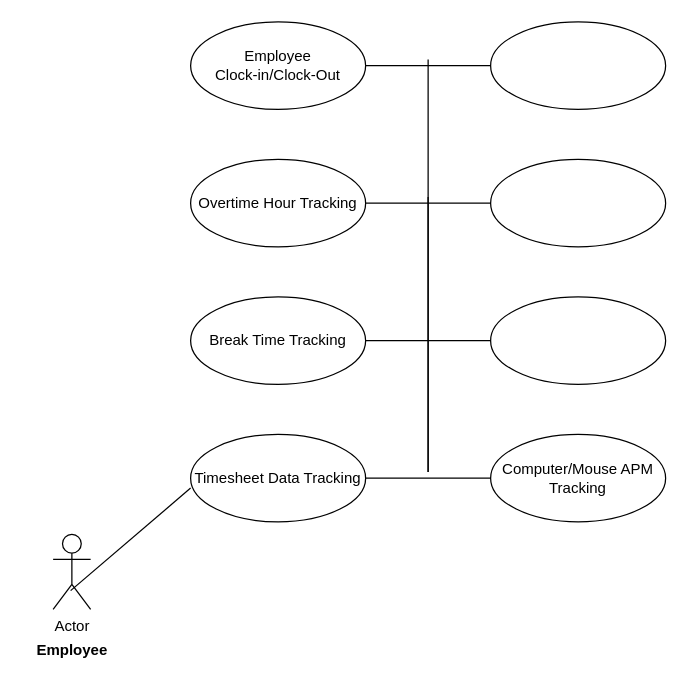
Image size: 688x689. Some labels were removed from this diagram. Here are the shapes that lost their labels. From the top down, the box of each, then its label:
(489, 21, 666, 109): Time-off Request
(489, 158, 666, 247): Schedule Shift
(489, 296, 666, 384): PTO Hour Tracking
